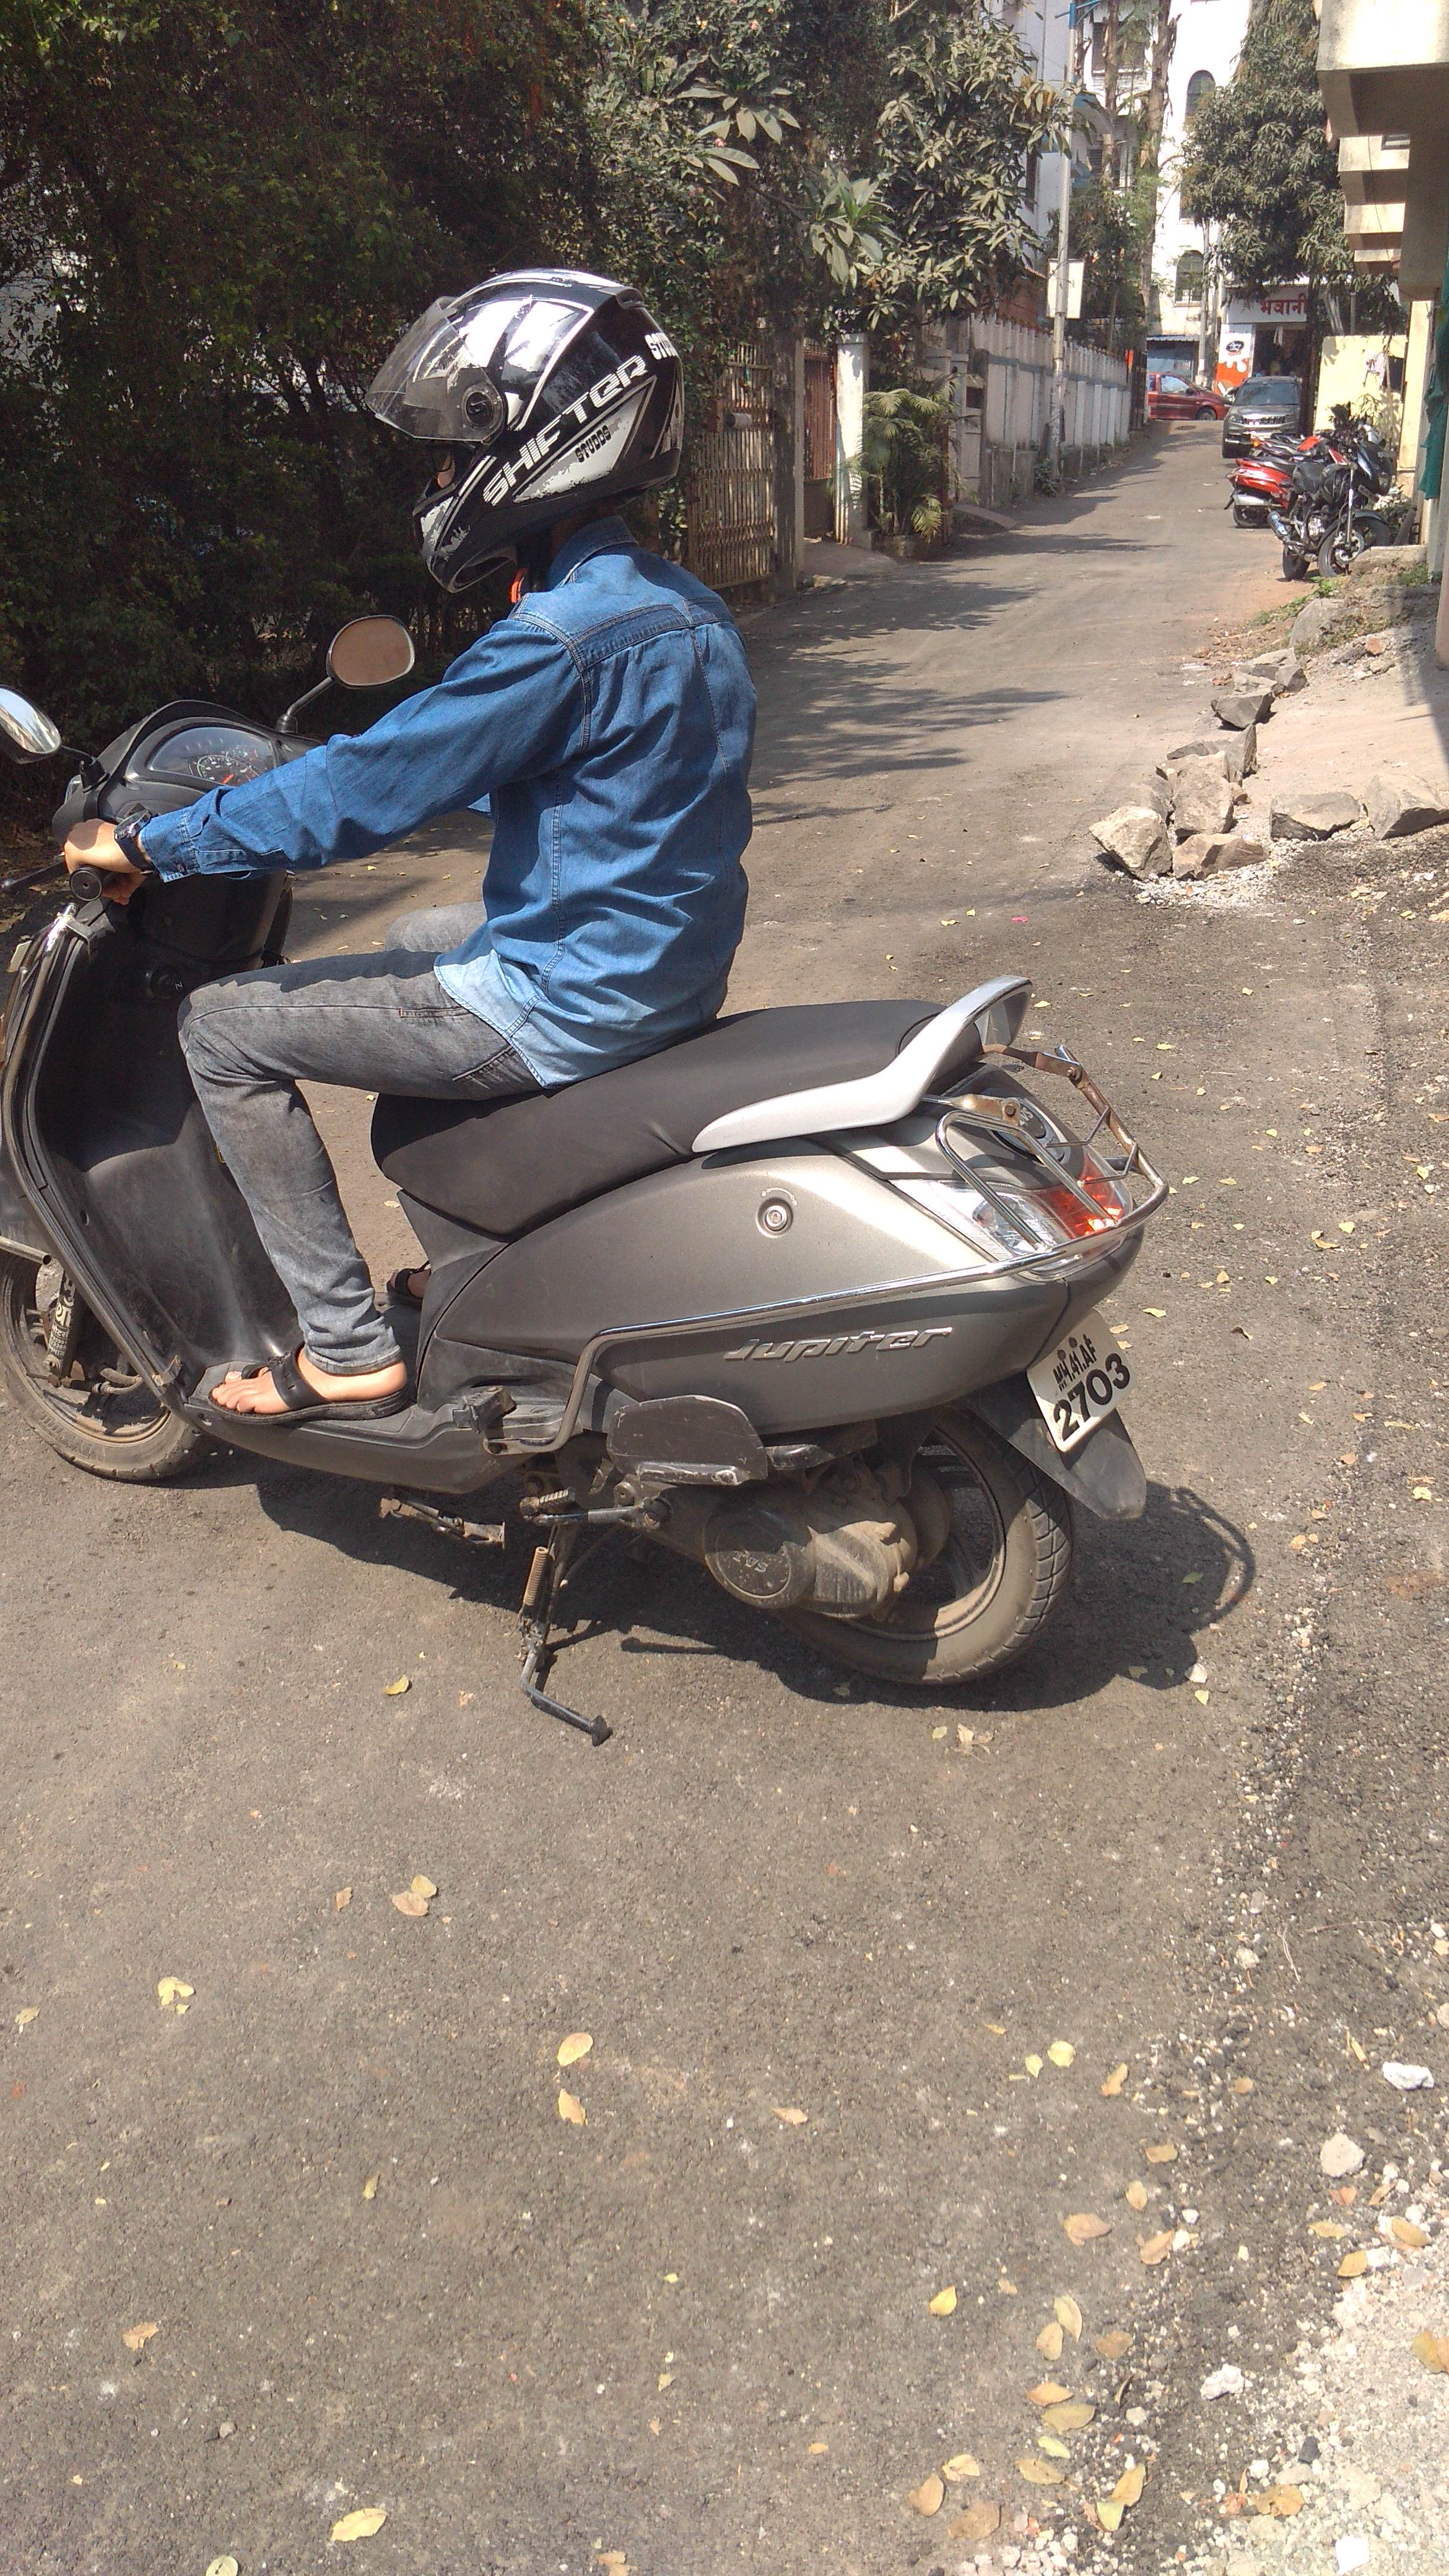helmet: (188, 223, 782, 1189)
